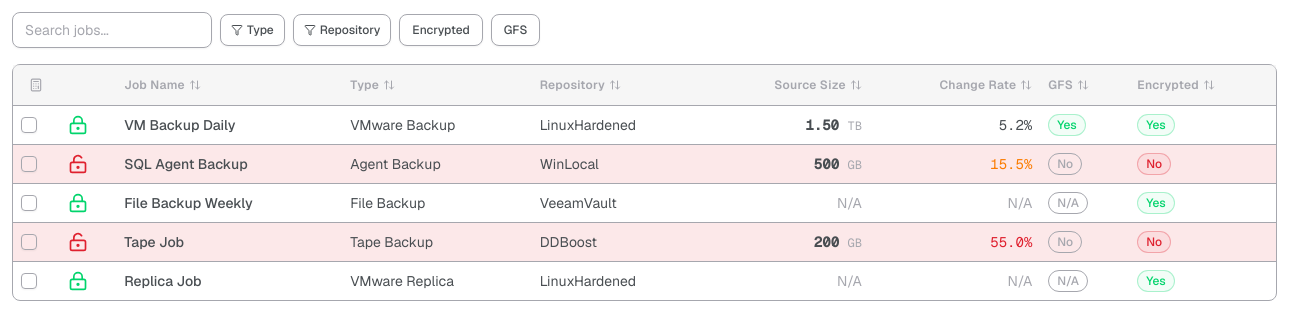
it: JobTable › filters rows by encryption toggle
Click the button with aria-label "filter by encrypted status". click: (441, 30)
box: [399,14,483,46]
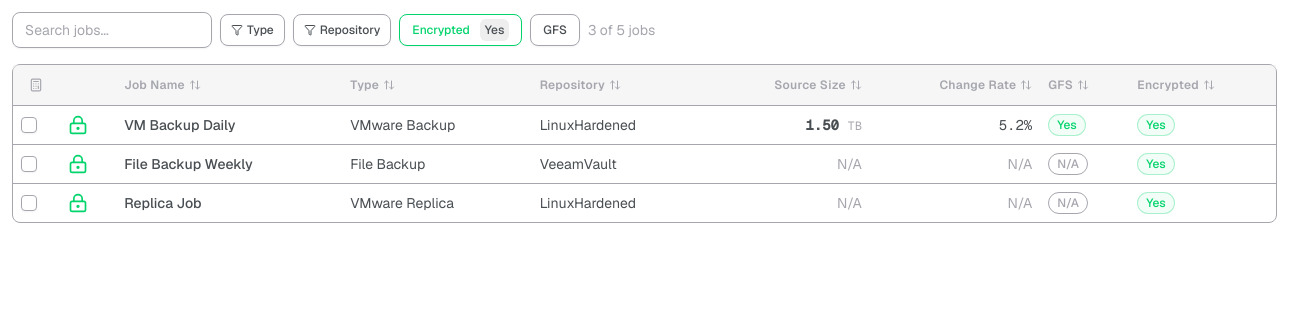
Expected: the text "VM Backup Daily" is shown, [124,116,235,134]
Expected: the button "SQL Agent Backup" is gone
